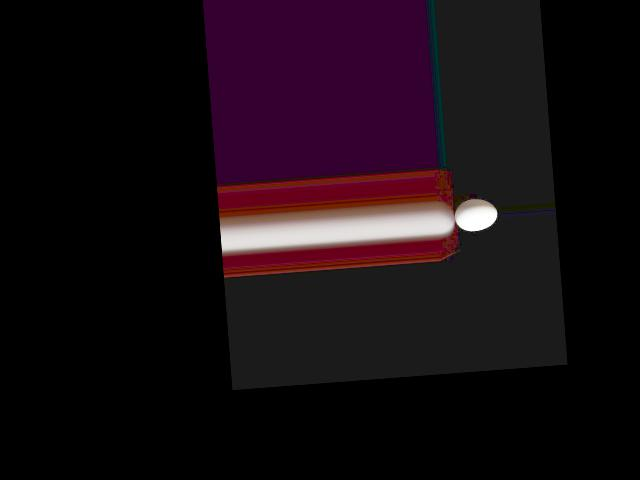egg: (453, 198, 498, 232)
